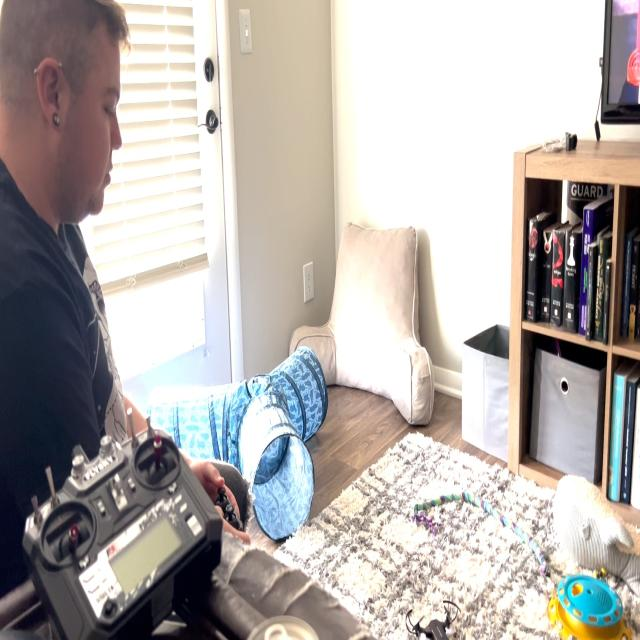drone: (398, 593, 466, 640)
